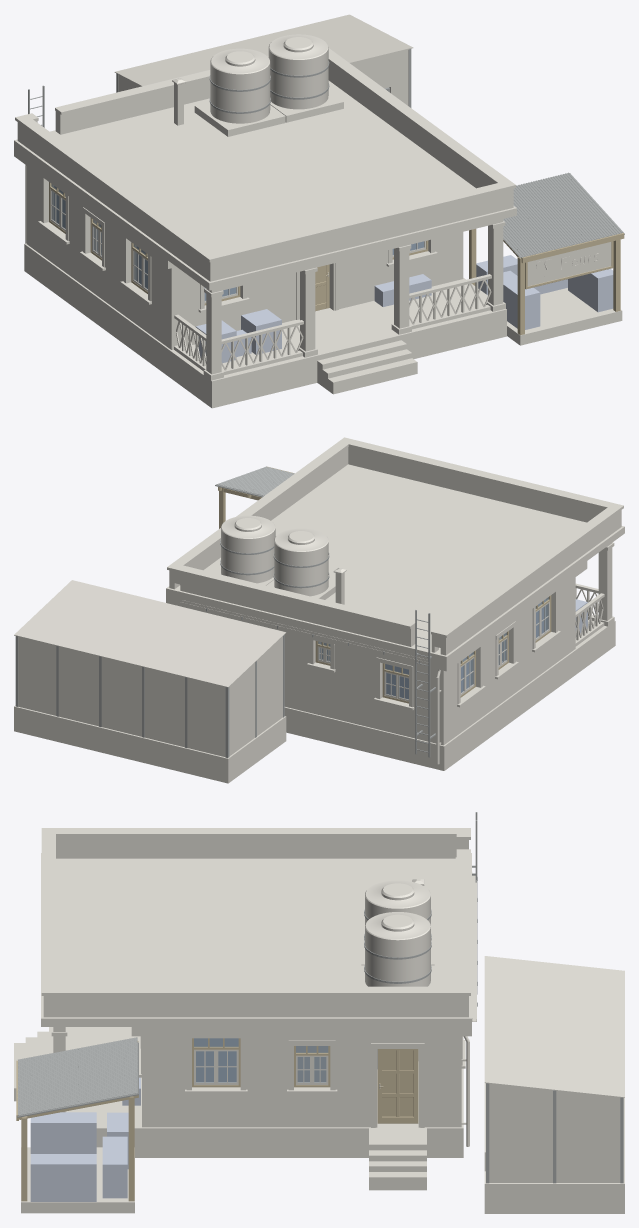
Rendered from mare_joncs_h01.glb.
3 renders of one model, top to bottom at view 1: azimuth 30°, elevation 25°; view 2: azimuth 150°, elevation 25°; view 3: azimuth 270°, elevation 25°, orthographic. The views are drawn at different scales.
Parts seen in each view (by area): view 1: concrete_cast, new_plaster_pink_weathered, basalt_masonry, floor_tiles, new_shade_net_black, Stand_Roof_Corrugated, Arch_new_plaster_pink_weathered, Tank_Black, Tank_Green, Arch_pavers_concrete, Arch_wood_weathered, Arch_plaster_cream_warm (+14 smaller); view 2: concrete_cast, new_shade_net_black, new_plaster_pink_weathered, basalt_masonry, Arch_concrete_cast, Tank_Black, Tank_Green, new_plaster_rose_dark, Arch_galvanized_steel, Arch_plaster_cream_warm, Arch_glass, Roof_Gutter_Rear (+7 smaller); view 3: concrete_cast, new_shade_net_black, new_plaster_pink_weathered, basalt_masonry, Stand_Roof_Corrugated, Arch_concrete_cast, Tank_Green, new_plaster_rose_dark, Ph_shop_shop_shelf_02, Arch_plaster_cream_warm, DoorLeaf_07_L_in, floor_tiles (+13 smaller).
Boxes of the visible parts, x1,y1,x2,y2 form: concrete_cast: [14, 48, 516, 290]; new_plaster_pink_weathered: [26, 166, 505, 380]; basalt_masonry: [24, 243, 506, 408]; floor_tiles: [184, 281, 484, 394]; new_shade_net_black: [114, 14, 413, 105]; Stand_Roof_Corrugated: [503, 172, 623, 258]; Arch_new_plaster_pink_weathered: [174, 274, 491, 375]; Tank_Black: [210, 48, 270, 123]; Tank_Green: [268, 34, 328, 109]; Arch_pavers_concrete: [507, 288, 622, 345]; Arch_wood_weathered: [469, 228, 624, 335]; Arch_plaster_cream_warm: [41, 176, 434, 319]; concrete_cast: [166, 437, 624, 663]; new_shade_net_black: [14, 580, 286, 757]; new_plaster_pink_weathered: [284, 542, 614, 745]; basalt_masonry: [284, 620, 615, 770]; Arch_concrete_cast: [14, 567, 335, 783]; Tank_Black: [274, 528, 328, 596]; Tank_Green: [221, 515, 275, 583]; new_plaster_rose_dark: [166, 561, 587, 671]; Arch_galvanized_steel: [15, 484, 284, 757]; Arch_plaster_cream_warm: [309, 590, 557, 707]; Arch_glass: [318, 597, 548, 699]; Roof_Gutter_Rear: [180, 600, 428, 664]; concrete_cast: [41, 828, 471, 1190]; new_shade_net_black: [484, 956, 624, 1182]; new_plaster_pink_weathered: [51, 1027, 461, 1127]; basalt_masonry: [49, 1027, 463, 1157]; Stand_Roof_Corrugated: [17, 1037, 137, 1115]; Arch_concrete_cast: [361, 933, 624, 1213]; Tank_Green: [365, 912, 430, 986]; new_plaster_rose_dark: [131, 1027, 471, 1036]; Ph_shop_shop_shelf_02: [30, 1154, 96, 1201]; Arch_plaster_cream_warm: [140, 1036, 462, 1127]; DoorLeaf_07_L_in: [377, 1049, 418, 1123]; floor_tiles: [14, 1027, 418, 1121].
Bounding box in the file's own units: 12.5 × 5.61 × 14.8.
